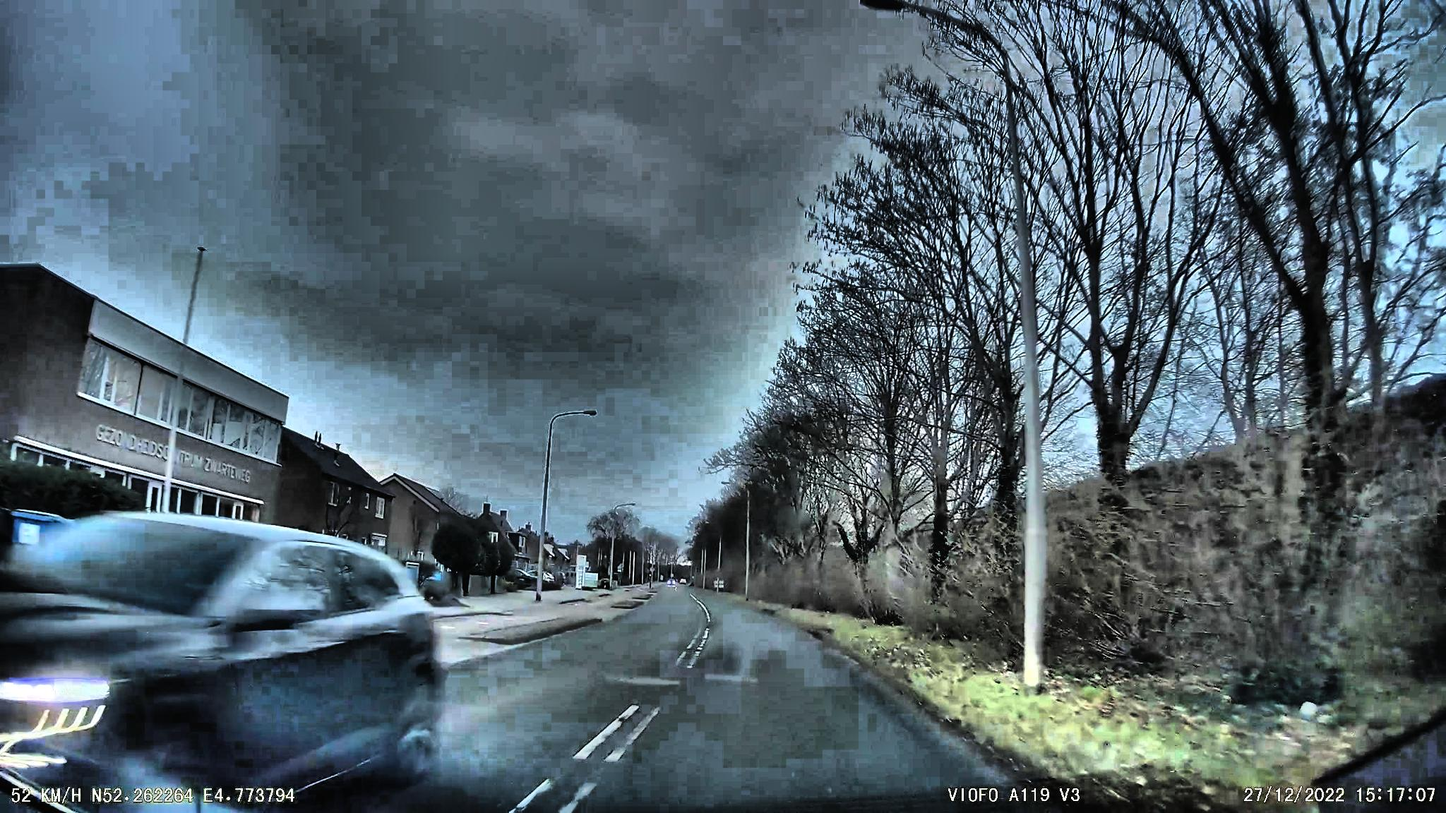Roads: (80, 592, 1097, 813)
